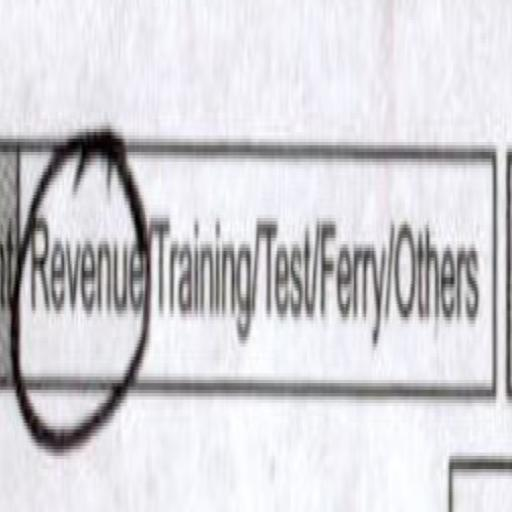check: (14, 96, 147, 497)
